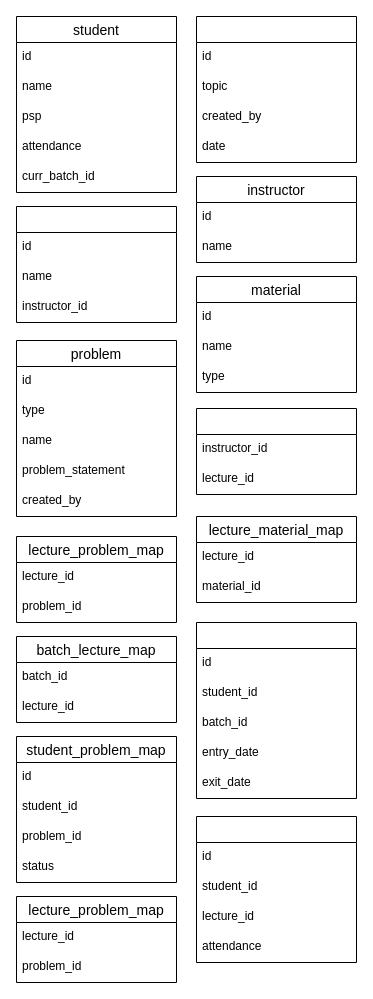
Some shapes in this 373 by 999 pixel diagram are drawn without their labels. Here are the shapes that lost their labels. From the top down, the box of each, then its label:
(196, 16, 356, 162): lecture
(16, 206, 176, 322): batch
(196, 408, 356, 494): instructor_lecture_map
(196, 622, 356, 798): student_batch_map
(196, 816, 356, 962): student_lecture_map
